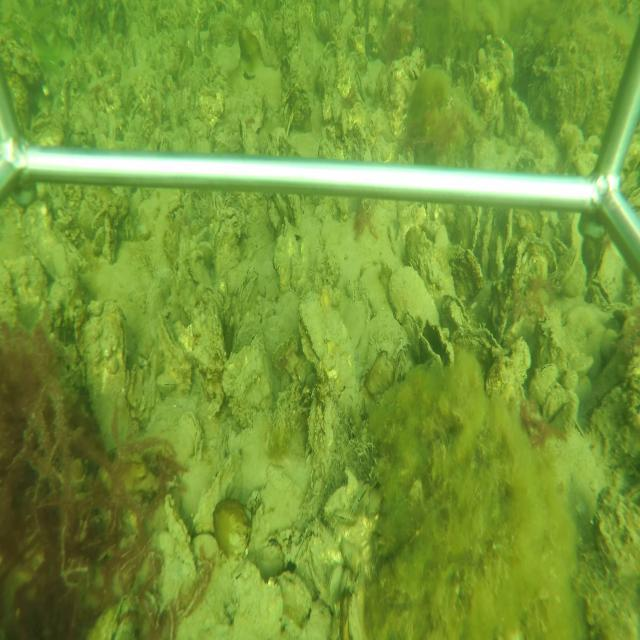Oyster-Closed: (81, 299, 134, 456), (299, 290, 350, 386), (159, 492, 198, 610), (221, 329, 270, 413), (192, 452, 235, 531), (153, 311, 193, 395), (389, 263, 440, 328), (274, 568, 311, 628), (213, 210, 242, 281), (450, 246, 484, 294), (530, 361, 558, 406), (542, 383, 566, 422), (349, 482, 372, 515), (104, 214, 116, 264), (238, 114, 252, 152)
Oyster-Indeterminate: (348, 575, 367, 636)
Oyster-Open: (411, 325, 458, 370), (589, 279, 612, 308)
